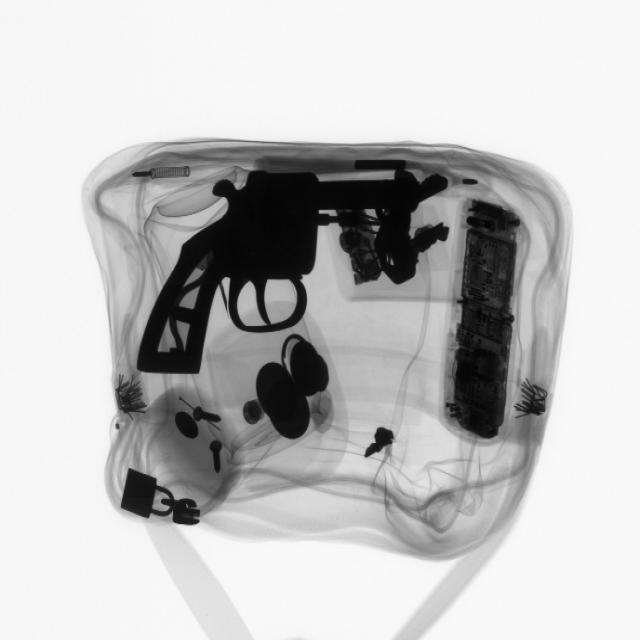GUN: (143, 167, 407, 387)
SCREW: (200, 434, 243, 483), (183, 396, 237, 434)
